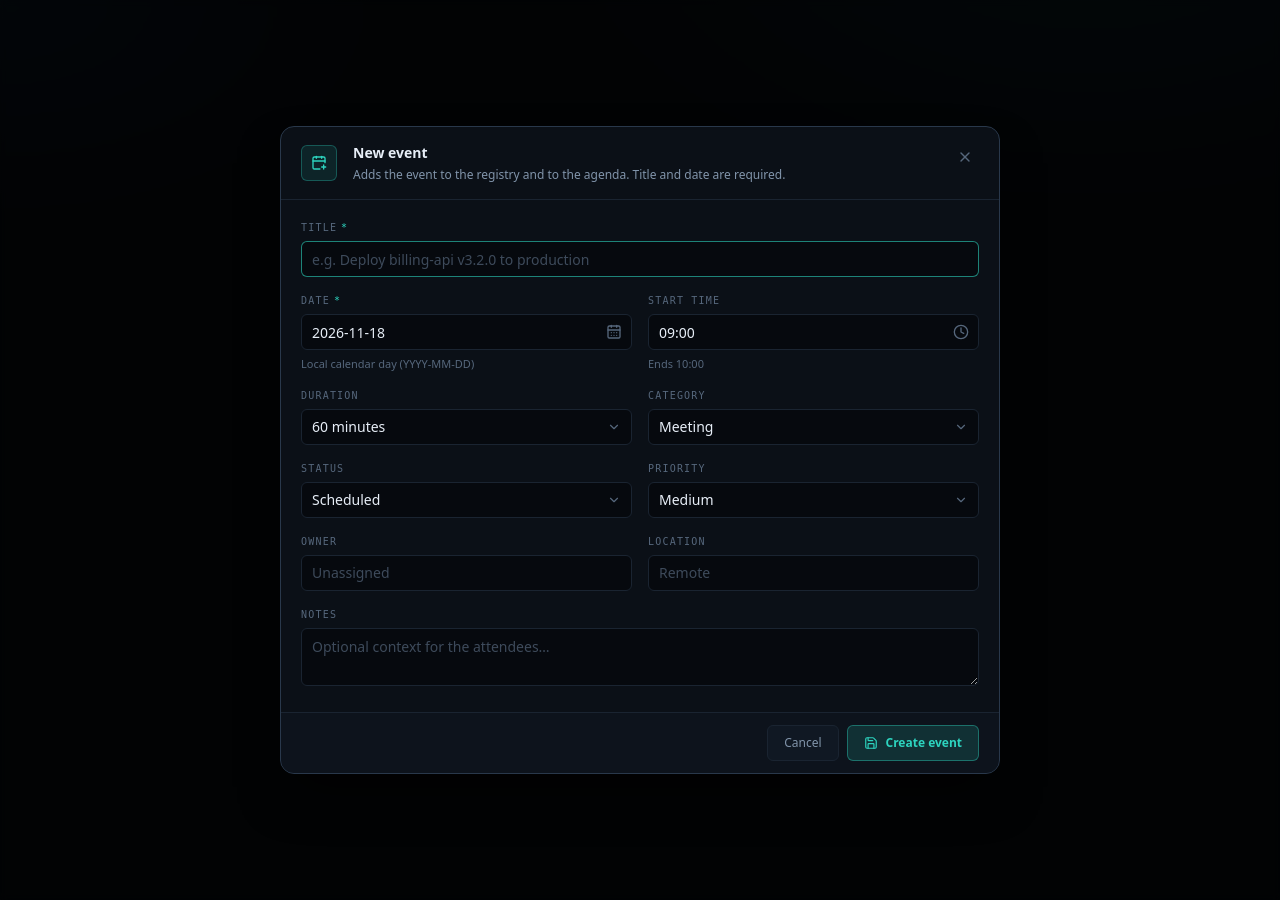
Test: EventForm › opens the time popover and picks a quick time
Step 1. Click the button named "Open time picker" → (961, 332), box [949,320,973,344]
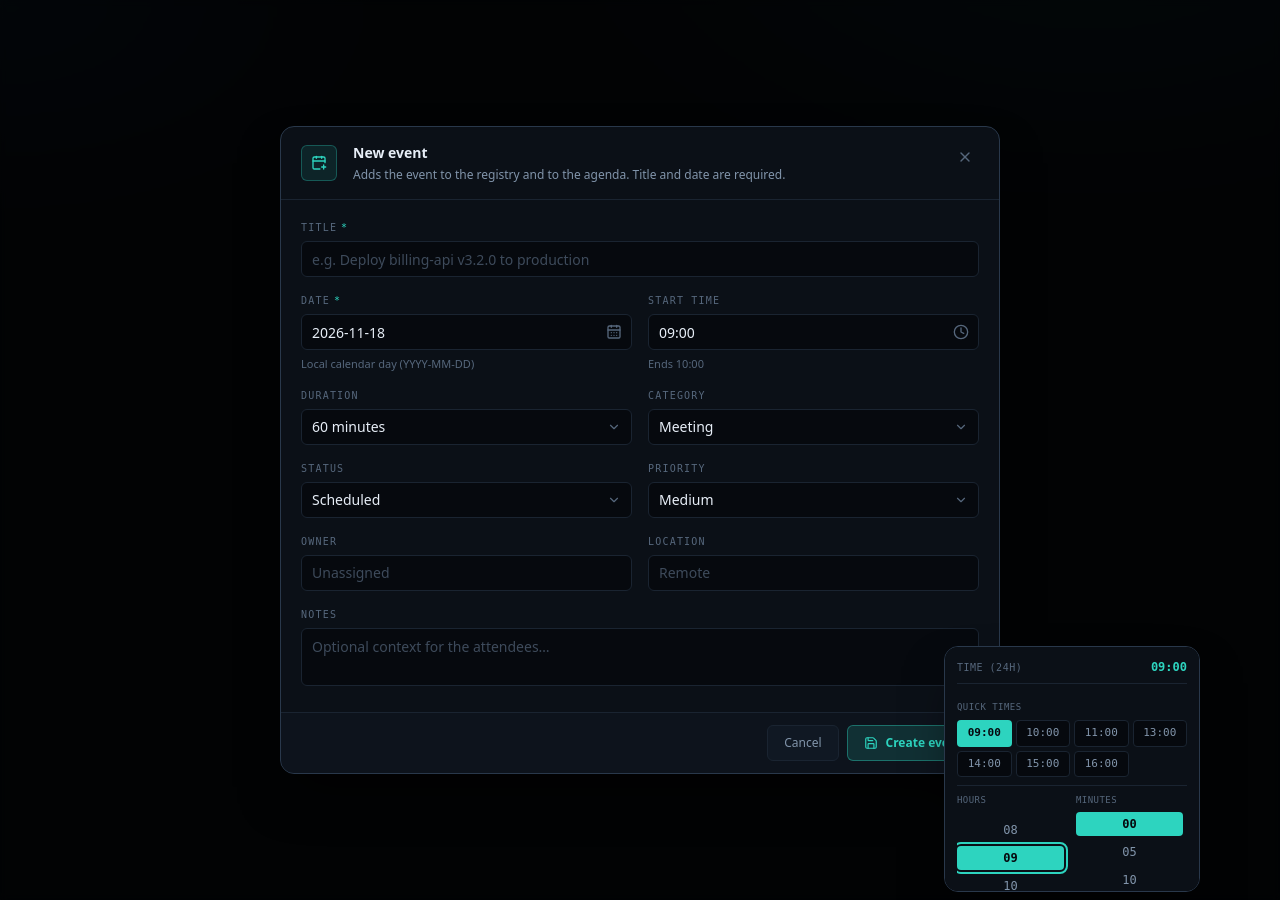
Step 2. Click the button "14:00" → (984, 764), box [957,750,1012,777]
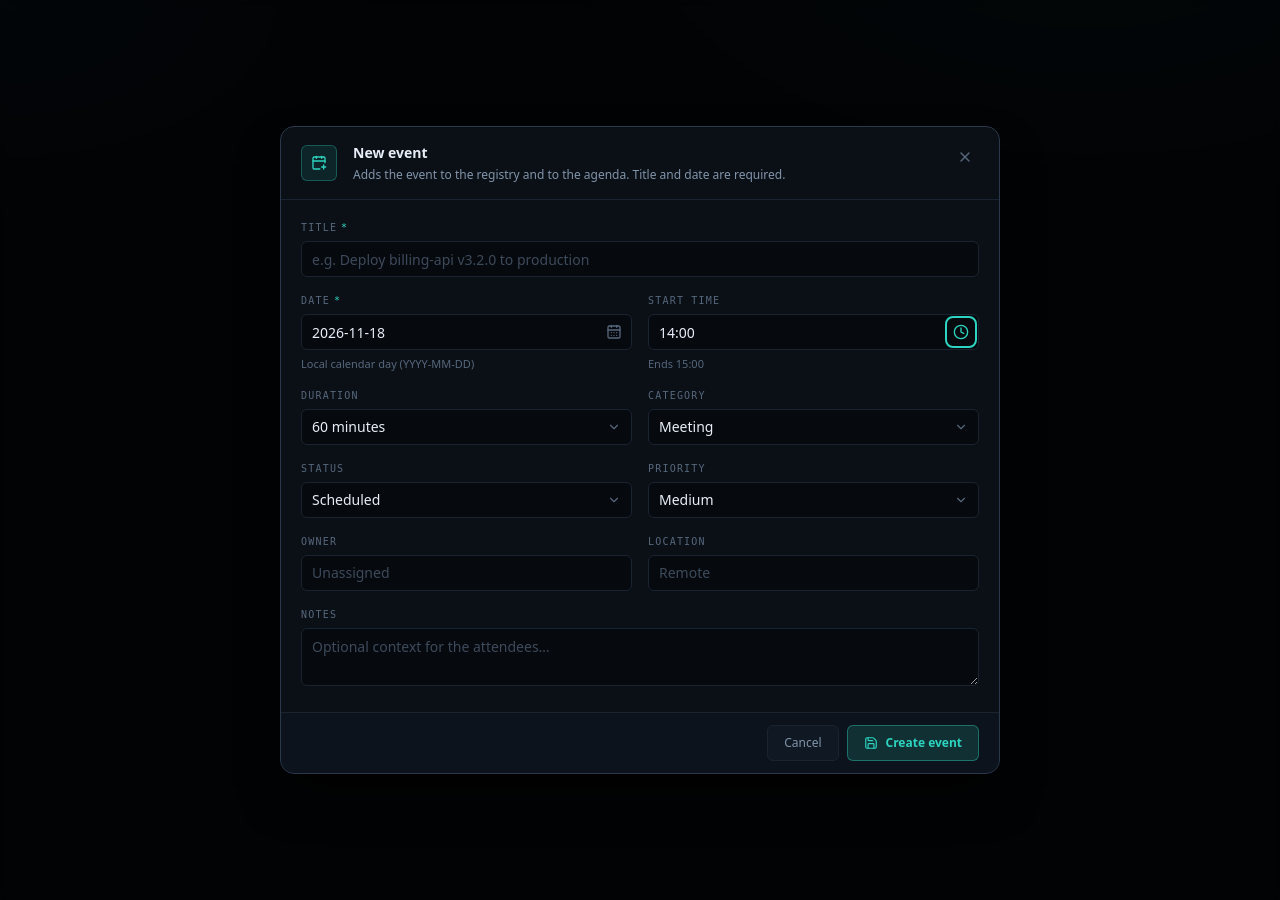
expect the field labelled "Start time" holds "14:00": met, box [648,314,979,350]
